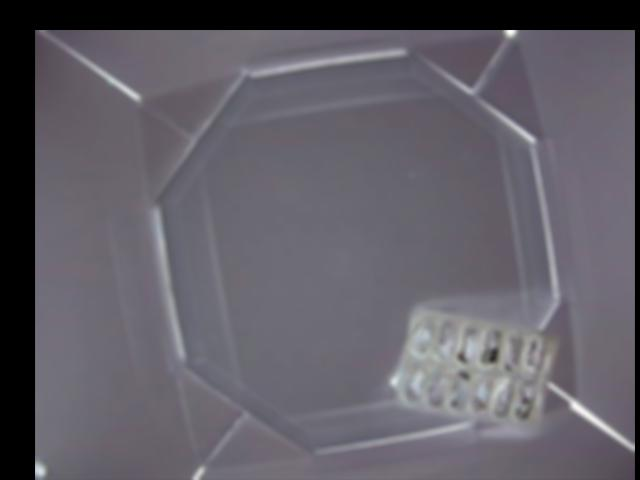Medicine: (391, 308, 558, 429)
